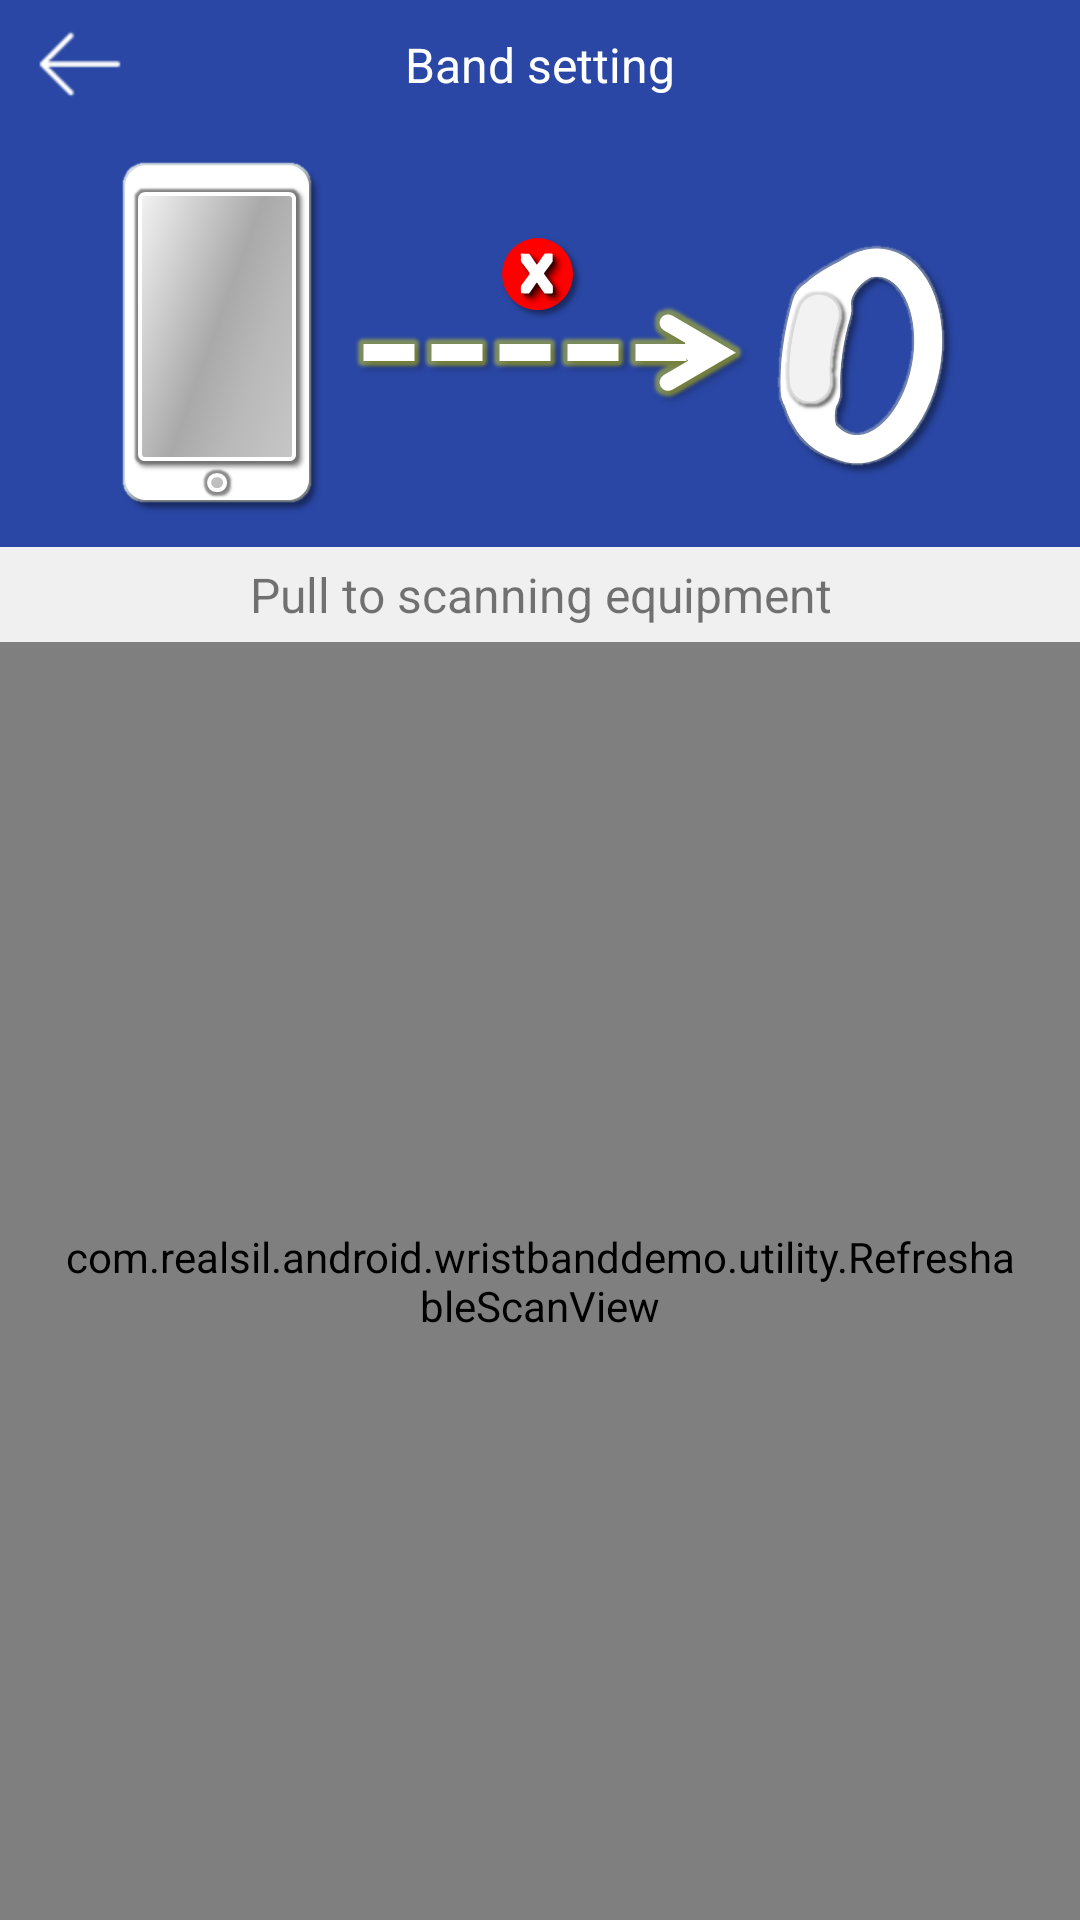

Screen size 1080 × 1920. Icon name, then its box in pixels as (left=x1, top=y1, right=x2, bottom=y2):
back: (left=39, top=32, right=121, bottom=96)
